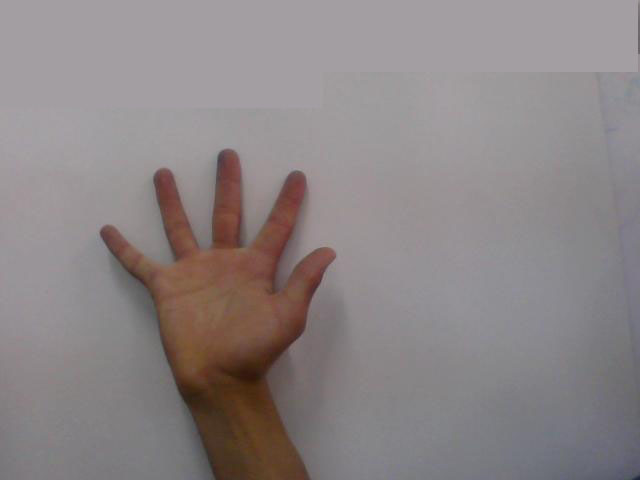hand: (88, 146, 350, 375)
